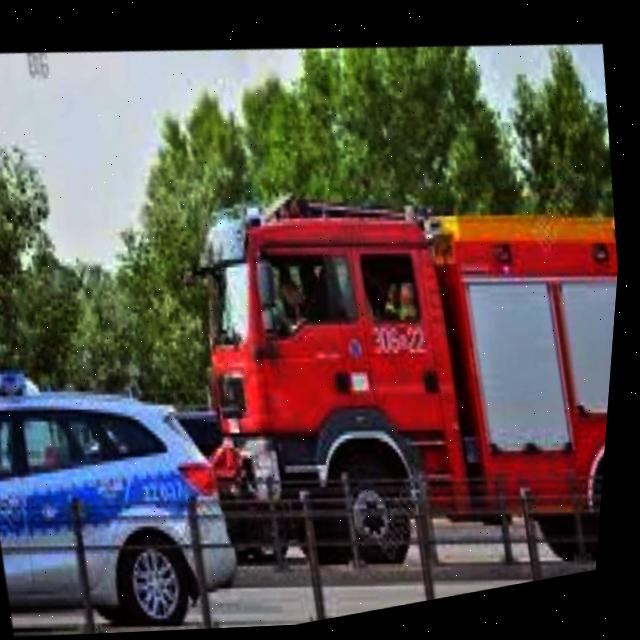emergency: (162, 137, 631, 633), (0, 329, 268, 640)
